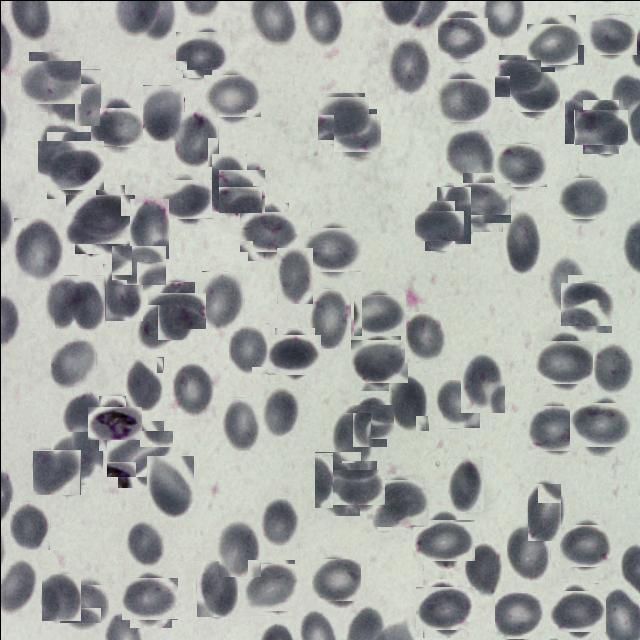red blood cell: (69, 188, 129, 248), (42, 136, 100, 193), (111, 426, 168, 482), (13, 217, 62, 281), (146, 454, 194, 518), (47, 68, 100, 125), (314, 451, 360, 515), (538, 334, 590, 388), (574, 398, 626, 451), (50, 431, 102, 484), (54, 274, 105, 328), (417, 513, 469, 565), (529, 401, 581, 453), (374, 476, 426, 528), (24, 55, 76, 107), (245, 561, 296, 613), (306, 223, 358, 274), (460, 352, 504, 412), (418, 582, 469, 633), (502, 209, 542, 274), (506, 521, 550, 580), (201, 270, 244, 330), (437, 74, 488, 124), (445, 130, 492, 184), (207, 70, 257, 120), (530, 18, 580, 68), (124, 574, 174, 624), (354, 336, 404, 386), (242, 206, 292, 256), (564, 278, 614, 328), (174, 110, 218, 166), (309, 288, 350, 348), (553, 586, 602, 635), (196, 559, 238, 616), (171, 361, 213, 417), (142, 84, 184, 140), (458, 178, 507, 226), (129, 198, 168, 258), (388, 37, 429, 94), (562, 521, 610, 569), (496, 140, 544, 188), (94, 102, 142, 150), (270, 330, 318, 378), (152, 286, 200, 334), (102, 263, 142, 320), (548, 255, 586, 315), (318, 94, 366, 141), (494, 591, 541, 639), (388, 374, 428, 430), (564, 87, 604, 143), (115, 241, 162, 288), (178, 26, 224, 74), (560, 174, 606, 222), (356, 290, 402, 338), (218, 524, 260, 576), (163, 176, 210, 222), (592, 340, 632, 394), (221, 396, 261, 450), (32, 449, 80, 494), (313, 556, 359, 602), (511, 68, 557, 114), (435, 379, 479, 427), (404, 311, 445, 362), (125, 356, 163, 411), (260, 496, 300, 548), (588, 12, 634, 57), (463, 542, 501, 596), (228, 322, 268, 373), (211, 153, 246, 211), (219, 168, 264, 213), (50, 340, 96, 384), (447, 456, 483, 512), (276, 247, 312, 303), (260, 383, 298, 436), (123, 518, 164, 567), (9, 500, 50, 549), (578, 104, 622, 149), (336, 464, 381, 508), (527, 482, 561, 540), (436, 186, 470, 243), (62, 581, 106, 625), (332, 412, 370, 462), (440, 14, 484, 57), (335, 110, 378, 154), (41, 573, 80, 620), (496, 56, 538, 98), (348, 400, 390, 442), (419, 205, 459, 245), (64, 392, 100, 434), (138, 304, 172, 348)
trophozoite: (92, 400, 136, 444)
